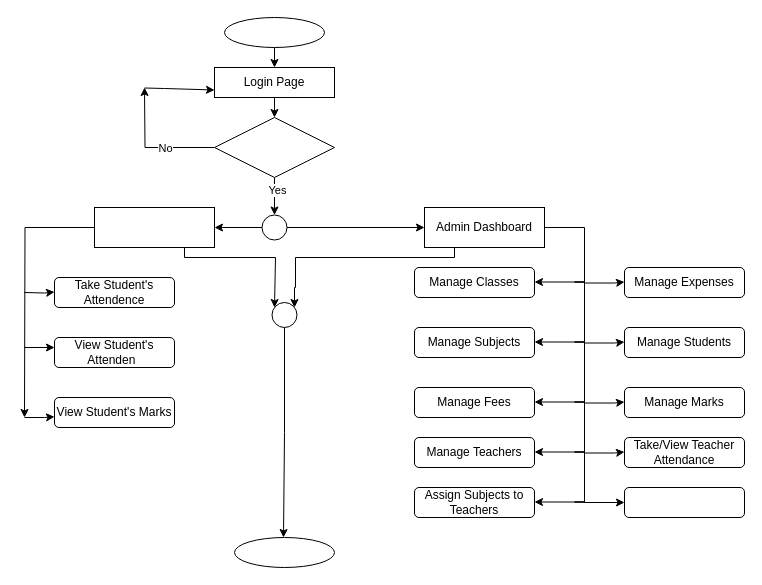
The diagram is 762 pixels wide and 585 high, and some of its shapes have lost their labels. The shapes that lost their labels are listed below. From the top down, each one's box as (x1, y1, x2, y2) in pixels, then its label:
(224, 16, 324, 48): Start
(214, 116, 334, 178): Valid Credentials?
(94, 206, 214, 248): Teacher Dashboard
(624, 486, 744, 518): View Student Attendance
(234, 536, 334, 568): End
